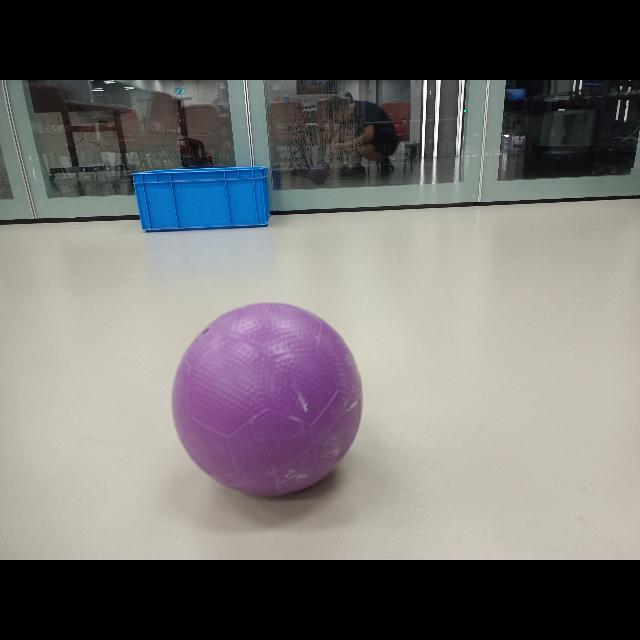P: (175, 302, 363, 492)
